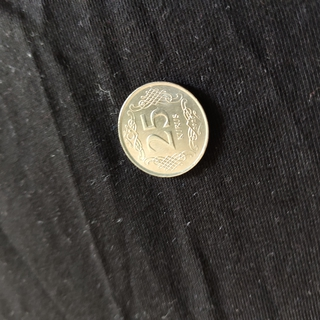25KURUS: (116, 79, 212, 178)
